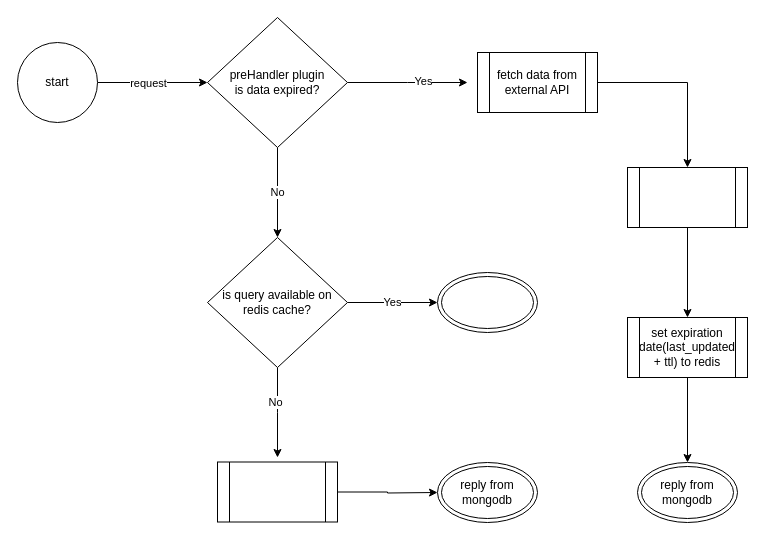
This 765x540 diagram has some shape labels left out. The shapes that lost their labels are listed below. From the top down, each one's centre as x and y in pixels, then its label:
pixel 687 197: insert into DB
pixel 487 302: reply from redis cache
pixel 277 491: set query to redis cache
